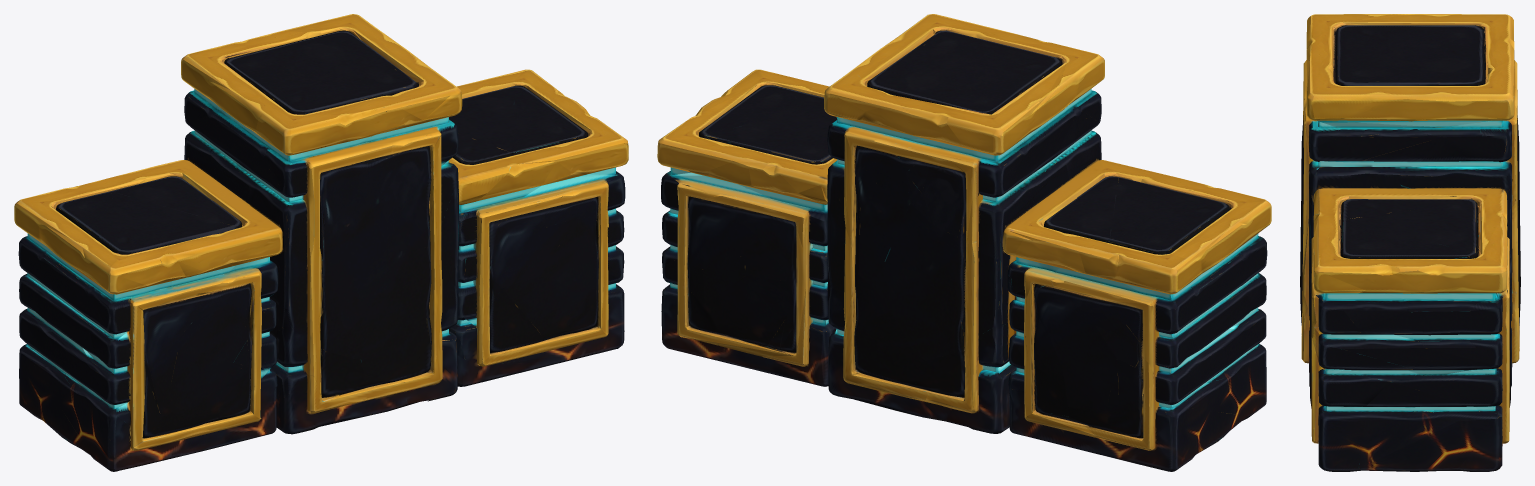
The model's file is podium.glb.
3 views of the same model, side by side, from view 1: azimuth 30°, elevation 25°; view 2: azimuth 150°, elevation 25°; view 3: azimuth 270°, elevation 25° (orthographic). The views are drawn at different scales.
Size of the model in its own units: 1.9 by 1.07 by 0.7227.
Materials: 1 (1 with a texture image).
